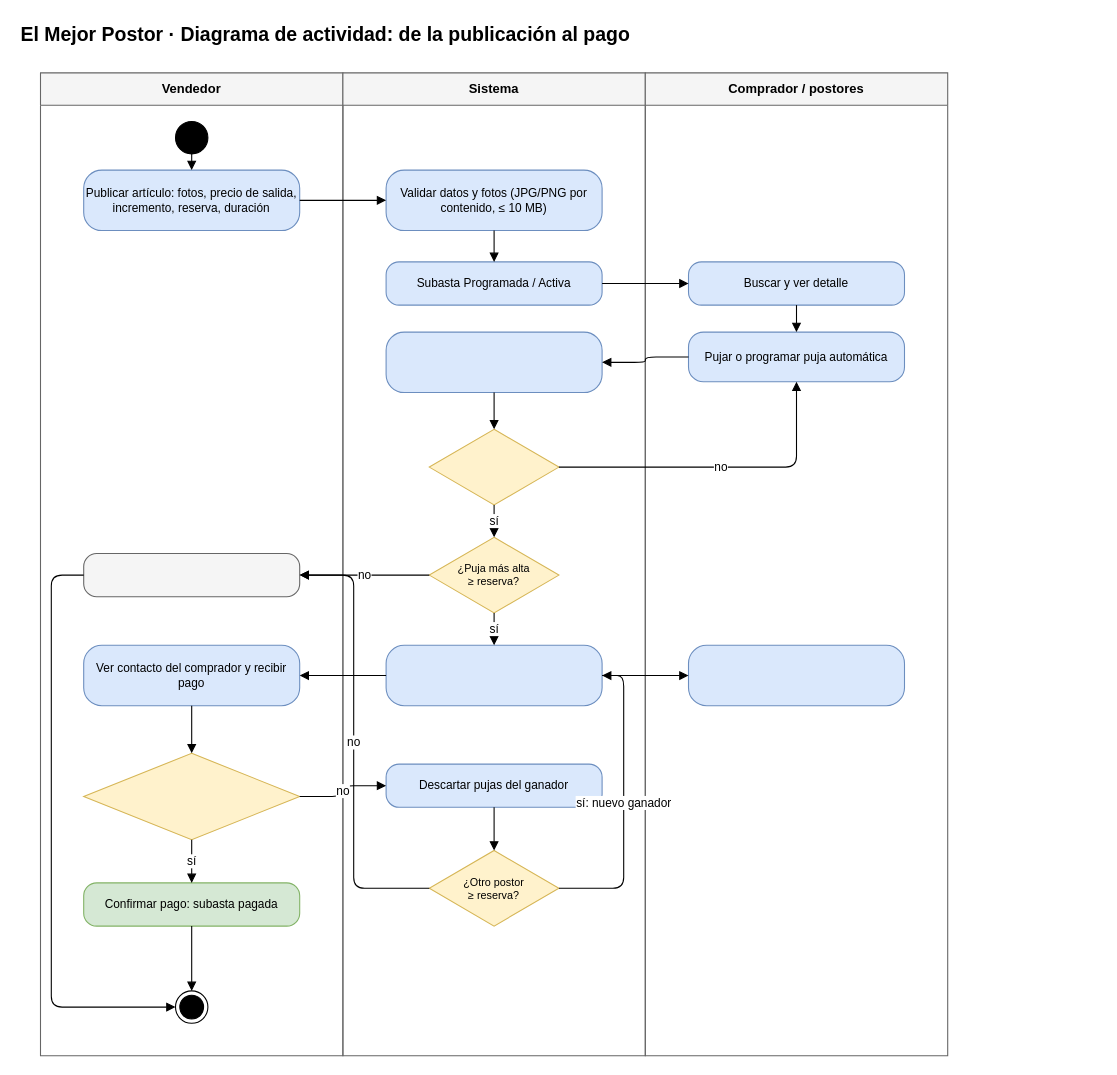
Image size: 1117x1075. Some labels were removed from this diagram. The shapes that lost their labels are listed below. From the top down, each one's centre as x and y in pixels, then its label:
At [493,362]: "Validar puja, responder automáticas y notificar en tiempo real".
At [493,466]: "¿Llegó fecha_cierre?".
At [191,574]: "Desierta: avisar al vendedor".
At [493,675]: "Finalizada: avisar a ganador y vendedor; plazo de pago 48 h".
At [796,675]: "Ver contacto del vendedor y coordinar pago y entrega".
At [191,796]: "¿Confirmó el pago antes de 48 h?".
